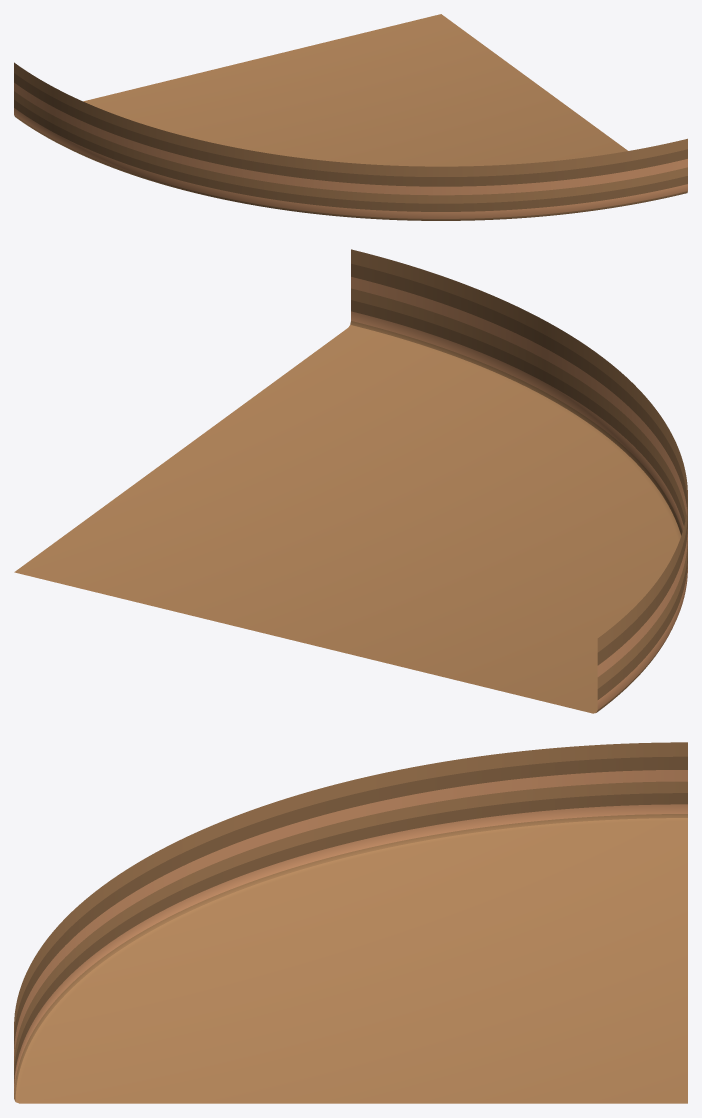
The model's file is platform_grass_corner_round8_bottom_tall.gltf.
The picture shows the model from 3 angles, top to bottom: view 1: azimuth 30°, elevation 25°; view 2: azimuth 150°, elevation 25°; view 3: azimuth 270°, elevation 25°; orthographic projection. The views are drawn at different scales.
Parts seen in each view (by area): view 1: Cube_Grass_Corner_Round8Bottom_Tall; view 2: Cube_Grass_Corner_Round8Bottom_Tall; view 3: Cube_Grass_Corner_Round8Bottom_Tall.
Boxes of the visible parts, x1,y1,x2,y2 form: Cube_Grass_Corner_Round8Bottom_Tall: (14,14,687,220); Cube_Grass_Corner_Round8Bottom_Tall: (14,249,687,713); Cube_Grass_Corner_Round8Bottom_Tall: (14,742,687,1103).
Bounding box in the file's own units: 16 × 2 × 16.
